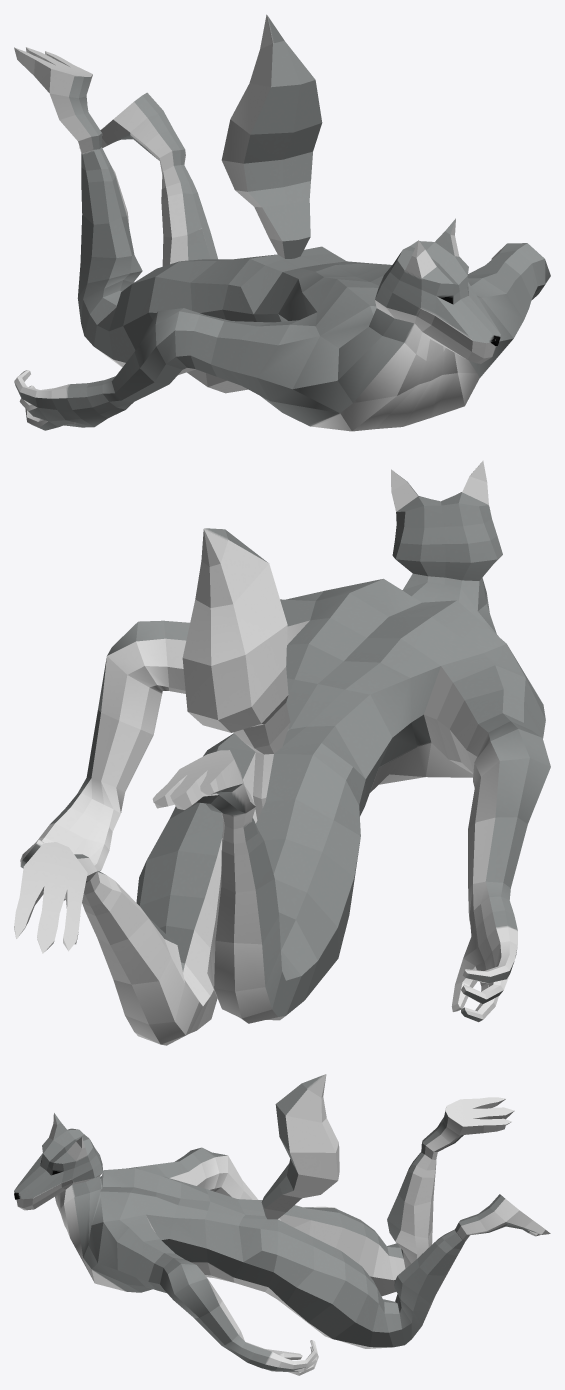
File: WolfDead(67).obj
3 renders of one model, top to bottom at view 1: azimuth 30°, elevation 25°; view 2: azimuth 150°, elevation 25°; view 3: azimuth 270°, elevation 25°, orthographic. The views are drawn at different scales.
Visible parts, largest first — view 1: Box001; view 2: Box001; view 3: Box001.
Boxes of the visible parts, x1=… form: Box001: x1=14, y1=14, x2=550, y2=431; Box001: x1=14, y1=460, x2=550, y2=1045; Box001: x1=14, y1=1074, x2=550, y2=1375.
Bounding box in the file's own units: 94.21 × 83.31 × 145.
